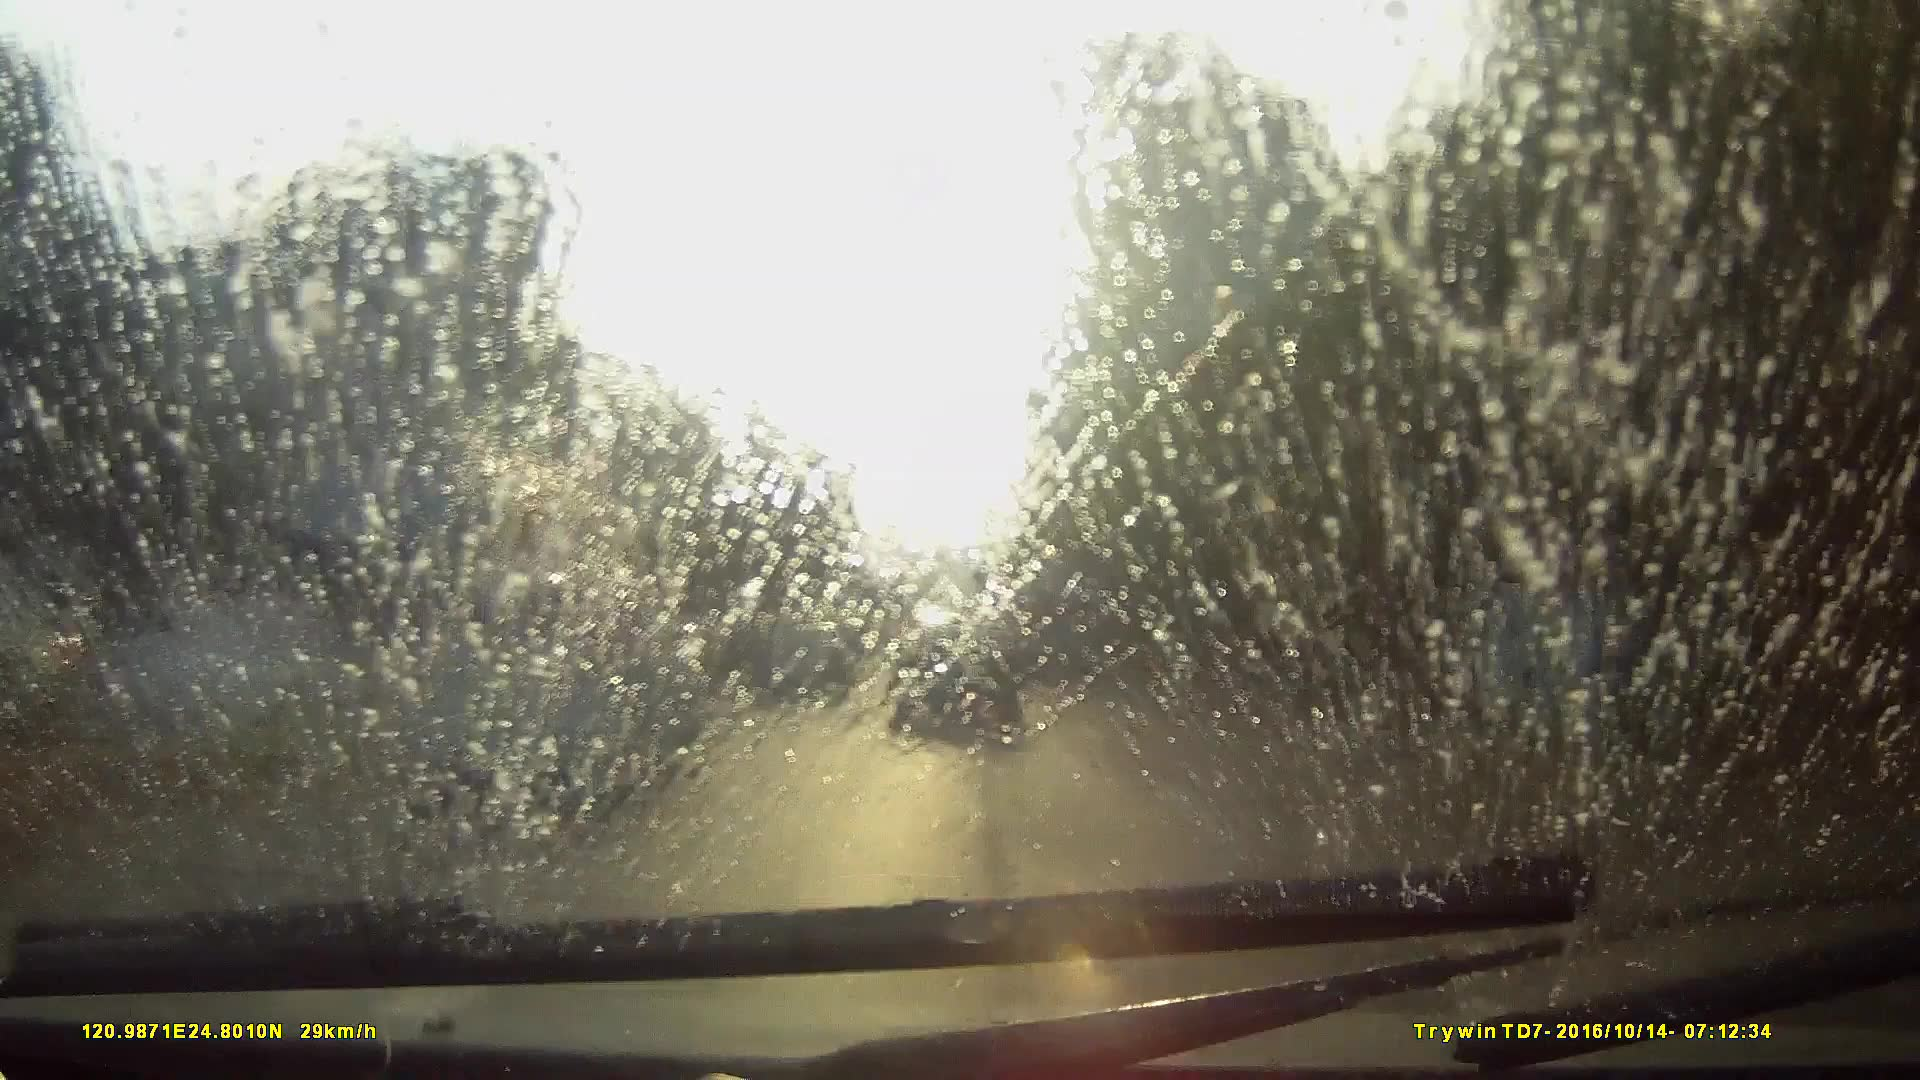vehicle: (251, 556, 684, 868), (225, 426, 654, 731), (400, 560, 705, 791), (887, 607, 1021, 740), (1004, 563, 1108, 688), (744, 622, 852, 709), (866, 638, 915, 687)
